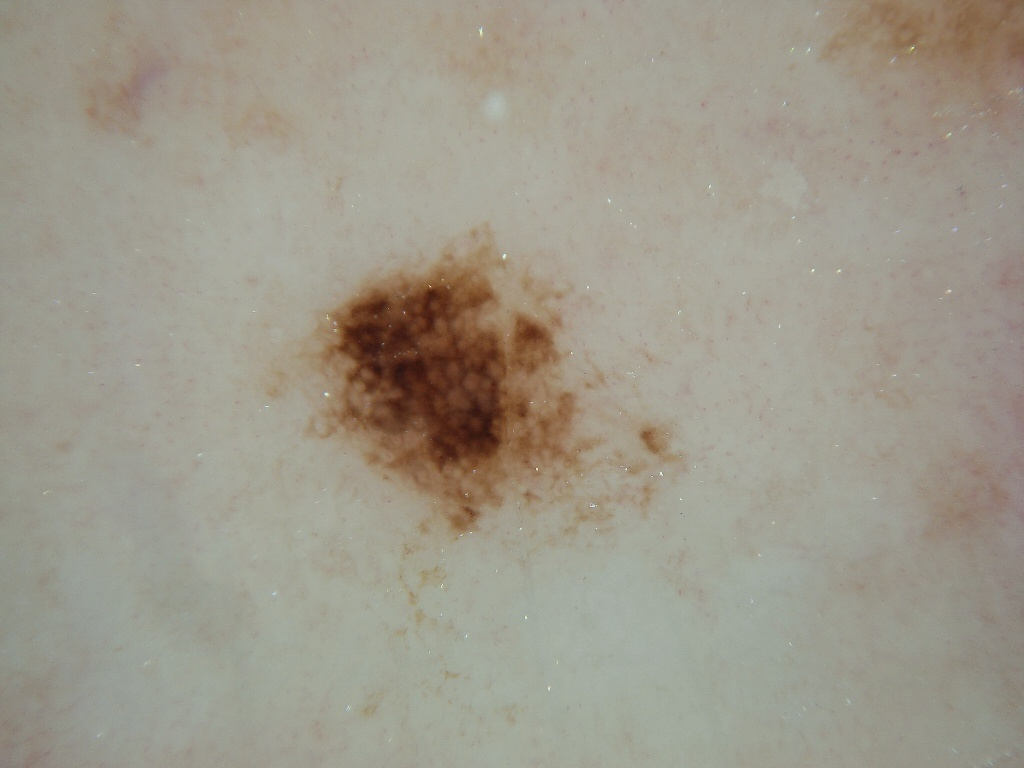Detected Lesion: (304, 229, 692, 655)
